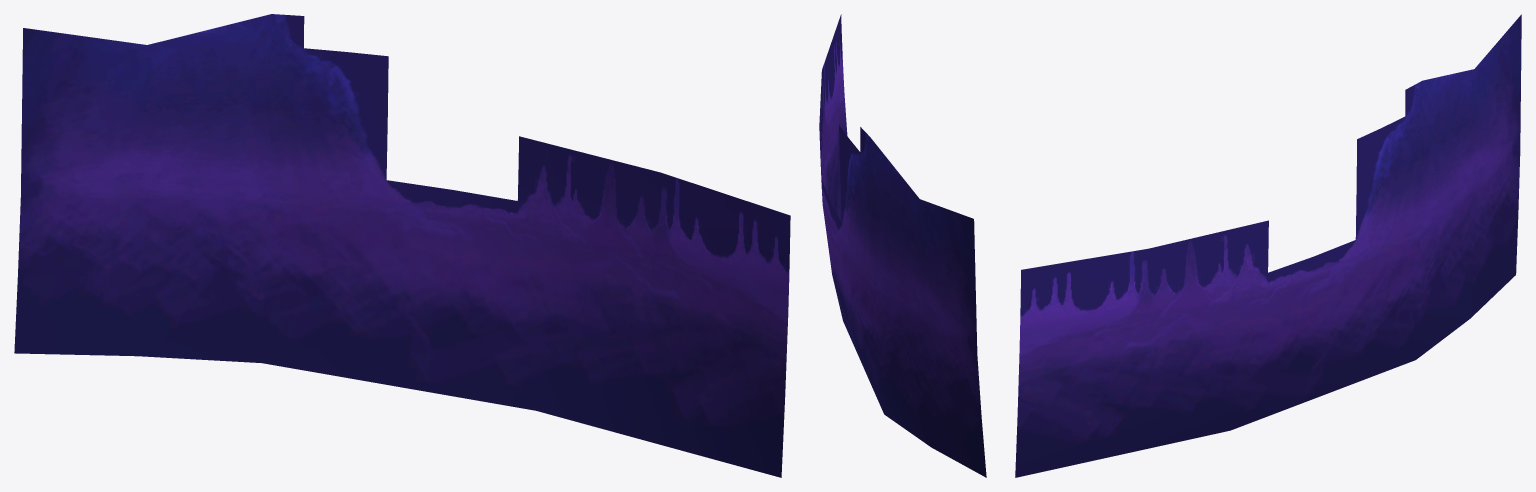
File: SWORDLIGHT20_PS-AREA05-RANGE03_01.fbx
3 renders of one model, left to right at view 1: azimuth 30°, elevation 25°; view 2: azimuth 150°, elevation 25°; view 3: azimuth 270°, elevation 25°, orthographic. The views are drawn at different scales.
Parts seen in each view (by area): view 1: SWORDLIGHT20_PS-AREA05-RANGE03_01; view 2: SWORDLIGHT20_PS-AREA05-RANGE03_01; view 3: SWORDLIGHT20_PS-AREA05-RANGE03_01.
Boxes of the visible parts, box(x1,y1,x2,y2) form: SWORDLIGHT20_PS-AREA05-RANGE03_01: box(14, 14, 790, 477); SWORDLIGHT20_PS-AREA05-RANGE03_01: box(819, 14, 986, 477); SWORDLIGHT20_PS-AREA05-RANGE03_01: box(1015, 14, 1521, 477).
Bounding box in the file's own units: 375505 × 262060 × 414903.
7 materials, 7 textured.
